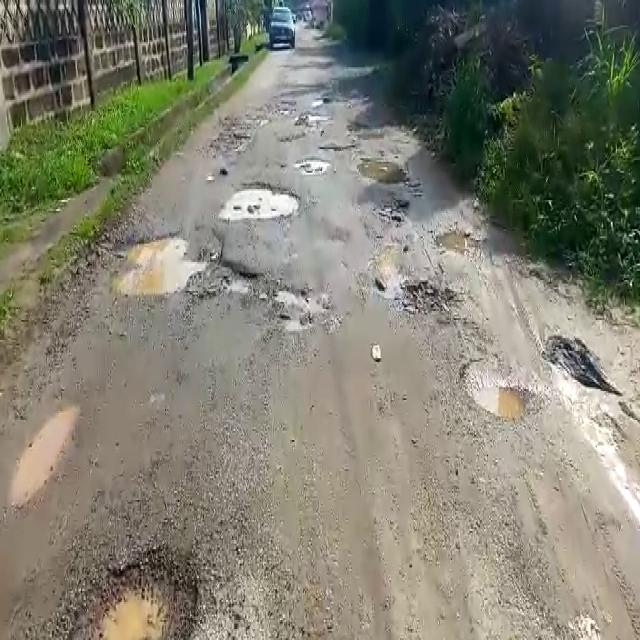Pothole: (62, 547, 210, 640), (106, 228, 260, 303), (8, 402, 80, 506), (540, 334, 620, 401), (460, 361, 532, 424), (220, 179, 304, 221), (402, 276, 462, 323), (275, 284, 334, 328), (357, 155, 413, 187), (437, 224, 483, 258), (294, 156, 332, 173), (318, 138, 360, 152)
